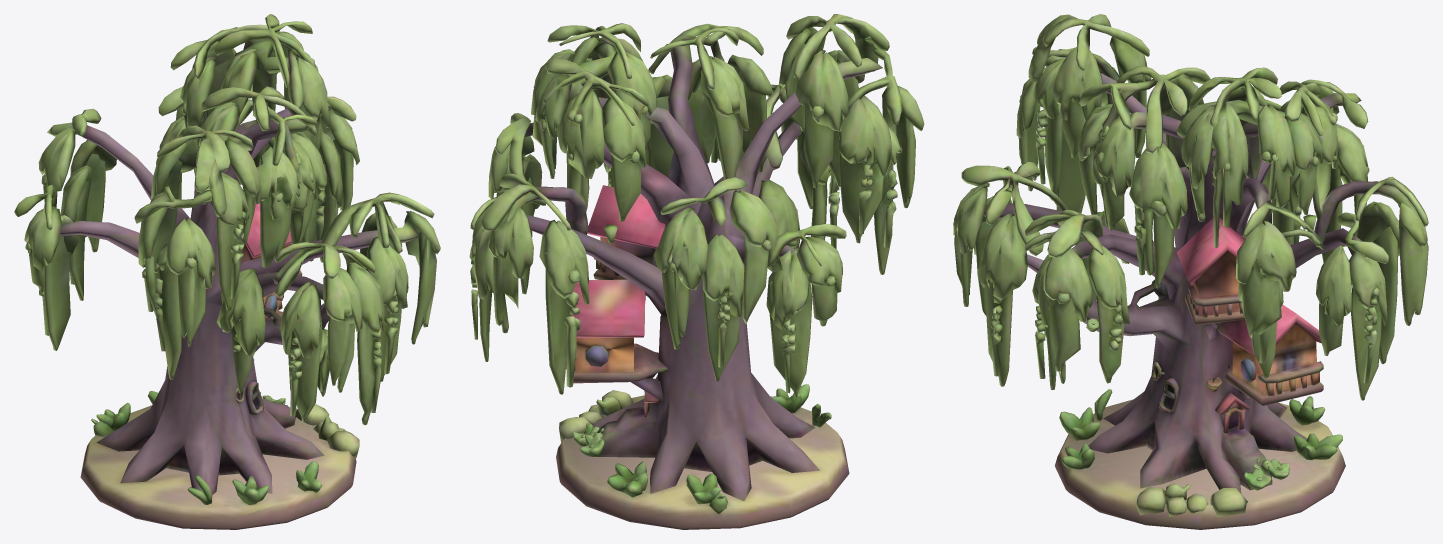
File: treehouse.glb
3 views of the same model, side by side, from view 1: azimuth 30°, elevation 25°; view 2: azimuth 150°, elevation 25°; view 3: azimuth 270°, elevation 25° (orthographic). The views are drawn at different scales.
Parts seen in each view (by area): view 1: tripo_node_950b6eb1-5045-4a4e-b4e9-fe237599c95b; view 2: tripo_node_950b6eb1-5045-4a4e-b4e9-fe237599c95b; view 3: tripo_node_950b6eb1-5045-4a4e-b4e9-fe237599c95b.
Part boxes in pixels (<box>): tripo_node_950b6eb1-5045-4a4e-b4e9-fe237599c95b: <box>14,14,440,529</box>; tripo_node_950b6eb1-5045-4a4e-b4e9-fe237599c95b: <box>469,14,924,529</box>; tripo_node_950b6eb1-5045-4a4e-b4e9-fe237599c95b: <box>953,14,1428,529</box>.
Bounding box in the file's own units: 0.8145 × 0.998 × 0.998.
1 material, 1 textured.
